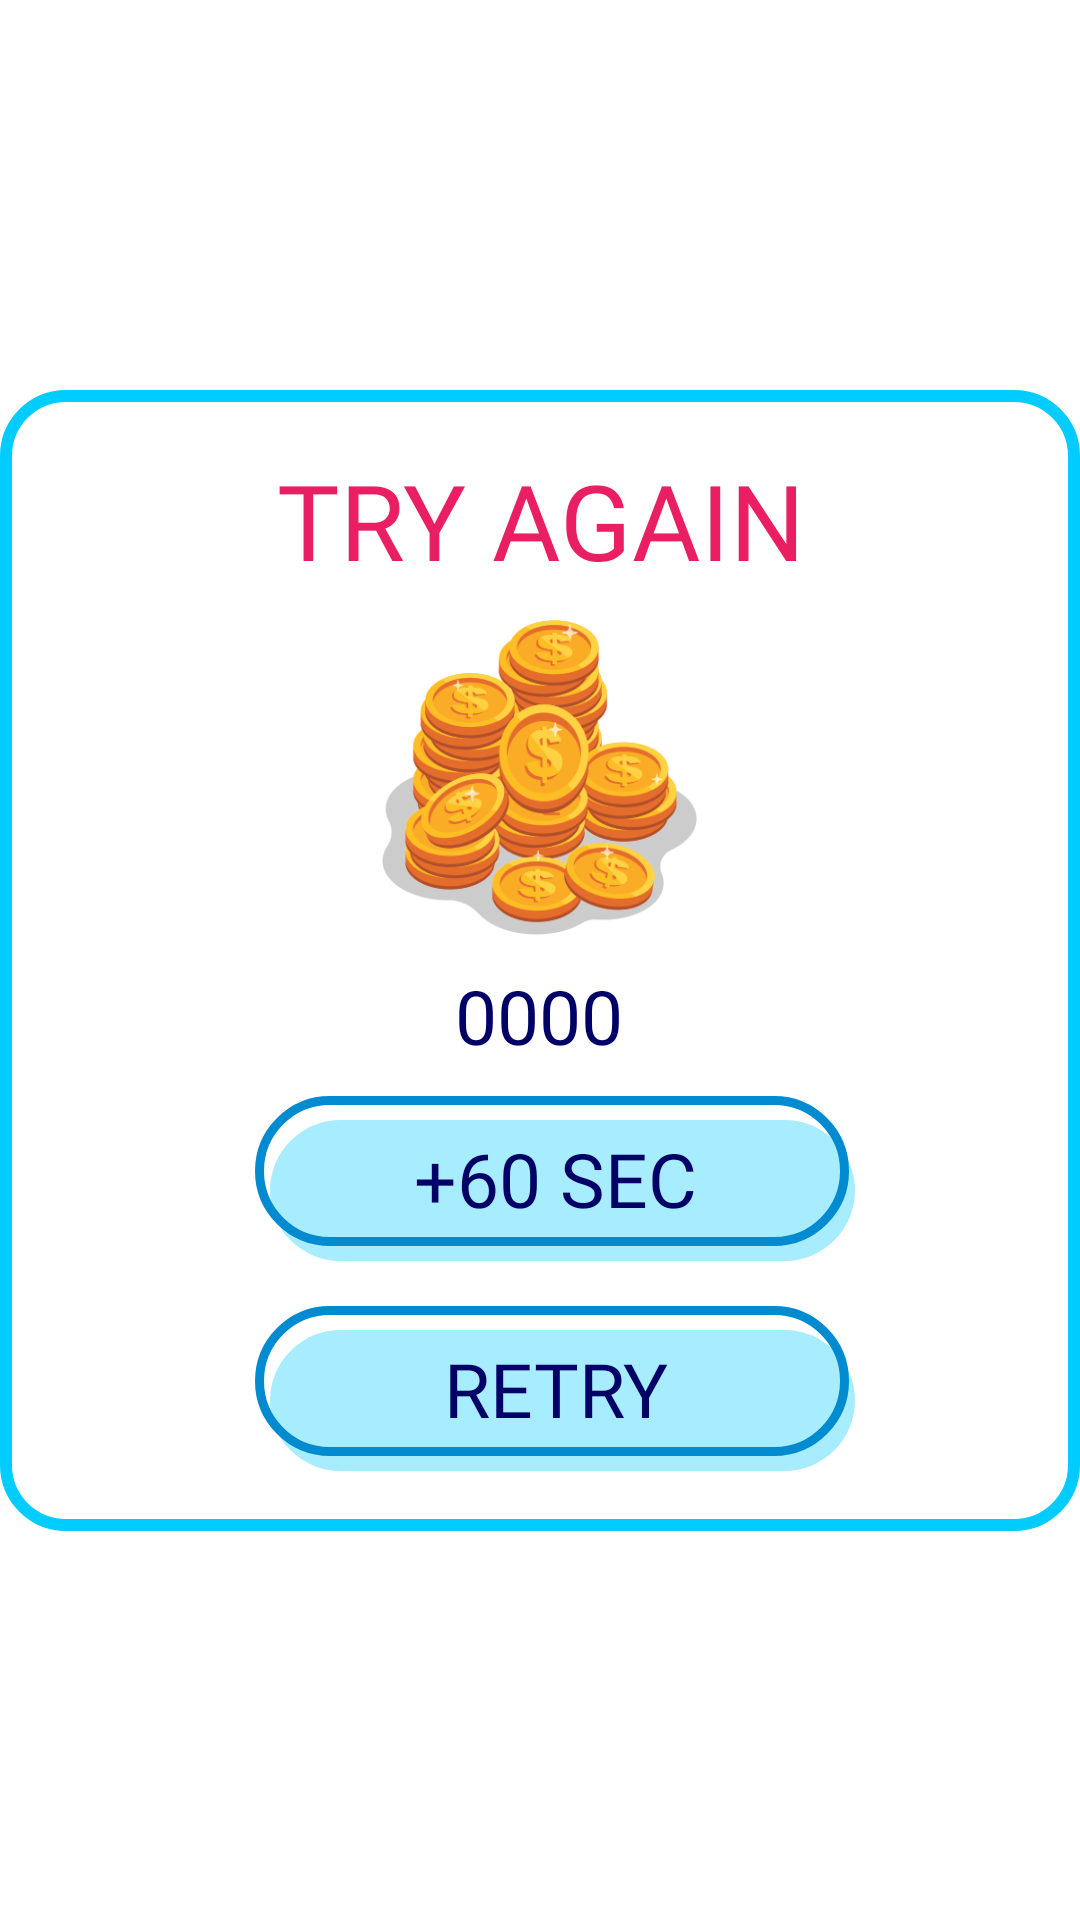

Named icons in this screenshot (1080*1920) and their bounding boxes, bbox=(x1, y1, x2, y2):
coins: bbox=(383, 620, 697, 934)
